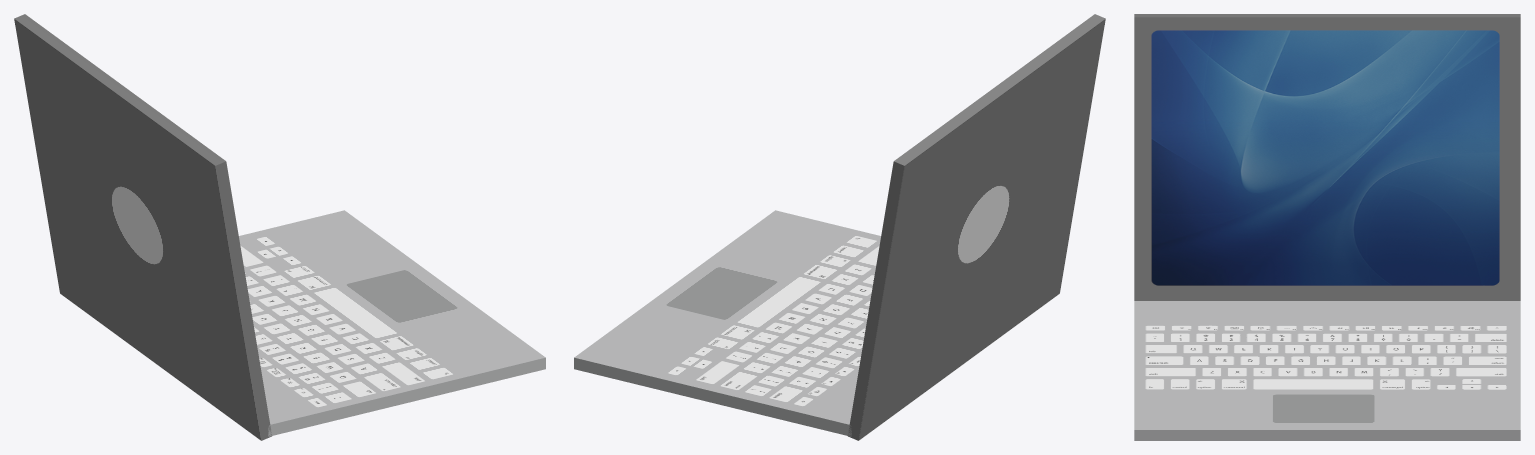
The model's file is laptop1.fbx.
The picture shows the model from 3 angles, left to right: view 1: azimuth 30°, elevation 25°; view 2: azimuth 150°, elevation 25°; view 3: azimuth 270°, elevation 25°; orthographic projection. The views are drawn at different scales.
Visible parts, largest first — view 1: polySurface1; view 2: polySurface1; view 3: polySurface1.
Part boxes in pixels (left/top/right/bottom): polySurface1: left=14, top=14, right=545, bottom=440; polySurface1: left=574, top=14, right=1105, bottom=440; polySurface1: left=1134, top=14, right=1520, bottom=440.
Bounding box in the file's own units: 1.88 × 1.56 × 1.98.
